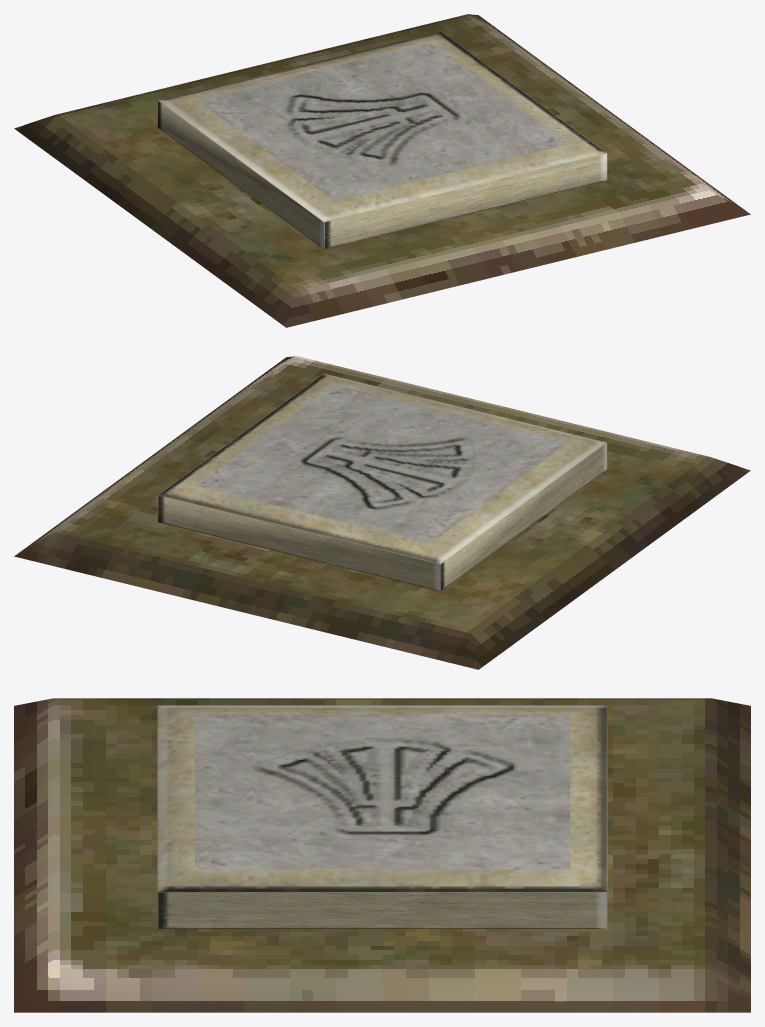
File: EREBOR_RESET_BUTTON.fbx
The picture shows the model from 3 angles, top to bottom: view 1: azimuth 30°, elevation 25°; view 2: azimuth 150°, elevation 25°; view 3: azimuth 270°, elevation 25°; orthographic projection. The views are drawn at different scales.
Visible parts, largest first — view 1: EREBOR_RESET_BUTTON; view 2: EREBOR_RESET_BUTTON; view 3: EREBOR_RESET_BUTTON.
Part boxes in pixels (<box>): EREBOR_RESET_BUTTON: <box>14,14,750,327</box>; EREBOR_RESET_BUTTON: <box>14,356,750,669</box>; EREBOR_RESET_BUTTON: <box>14,698,750,1012</box>.
Bounding box in the file's own units: 13227 × 1353 × 13423.
Materials: 3 (3 with a texture image).
